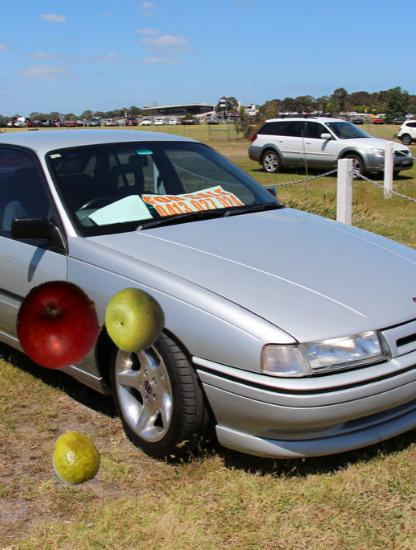Apple: (13, 280, 103, 370)
Guava: (48, 430, 103, 485)
Pomelo: (102, 287, 168, 353)
